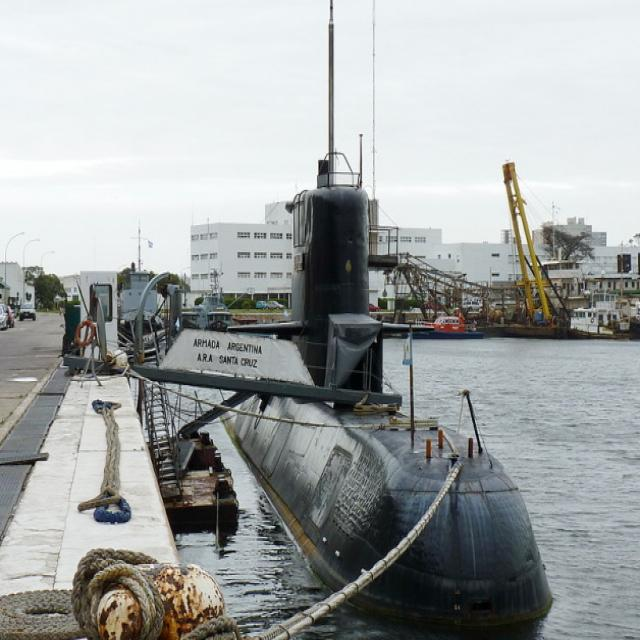submarine: (236, 1, 559, 629)
